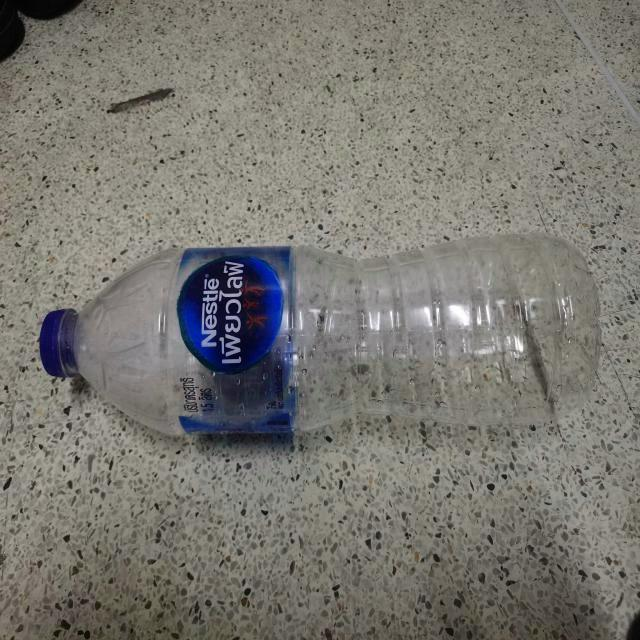bottle: (40, 235, 601, 437)
